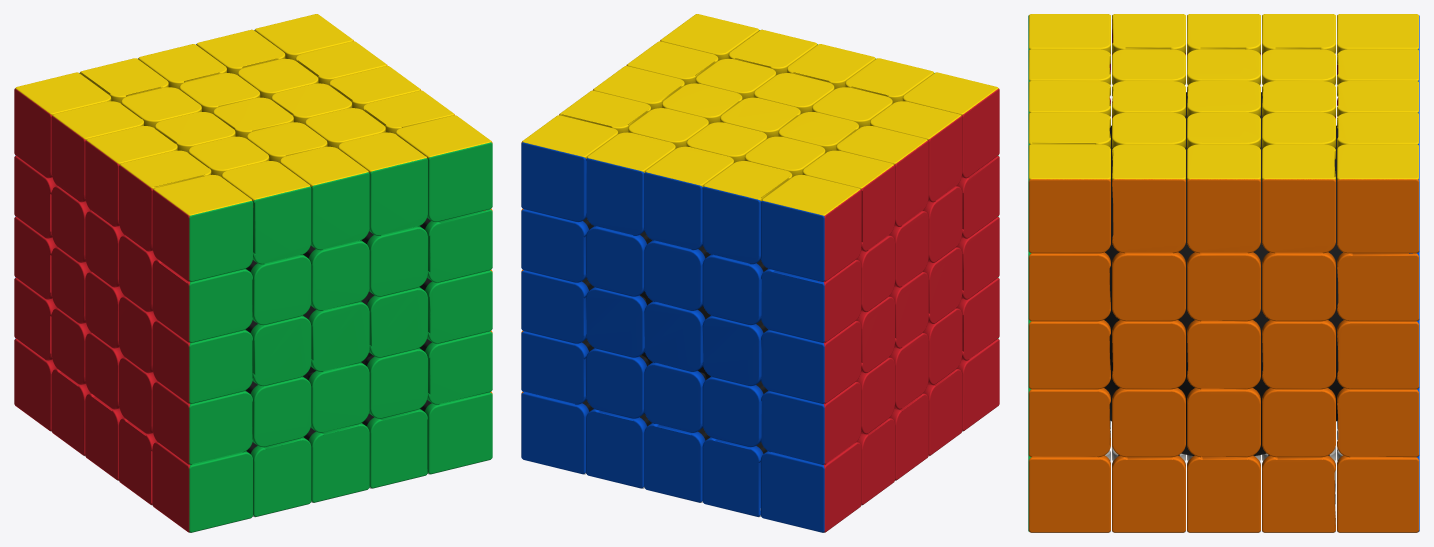
The picture shows the model from 3 angles, left to right: view 1: azimuth 30°, elevation 25°; view 2: azimuth 150°, elevation 25°; view 3: azimuth 270°, elevation 25°; orthographic projection. The views are drawn at different scales.
Visible parts, largest first — view 1: piece_-2,2,2, piece_-2,-2,2, piece_2,2,2, piece_-2,0,2, piece_-2,1,2, piece_-2,-1,2, piece_0,2,2, piece_-1,2,2, piece_1,2,2, piece_-2,2,-2, piece_2,-2,2, piece_-2,2,-1 (+49 smaller); view 2: piece_-2,2,-2, piece_-2,-2,-2, piece_2,2,-2, piece_-2,0,-2, piece_-2,1,-2, piece_-2,-1,-2, piece_1,2,-2, piece_0,2,-2, piece_-1,2,-2, piece_-2,2,2, piece_2,-2,-2, piece_-2,2,1 (+49 smaller); view 3: piece_2,2,-2, piece_2,2,2, piece_2,2,0, piece_2,2,-1, piece_2,2,1, piece_2,-2,2, piece_2,-2,-2, piece_2,1,2, piece_2,0,2, piece_2,0,-2, piece_2,1,-2, piece_2,-2,0 (+34 smaller).
Part boxes in pixels (left/top/right/bottom): piece_-2,2,2: left=152, top=174, right=252, bottom=281; piece_-2,-2,2: left=152, top=442, right=252, bottom=532; piece_2,2,2: left=395, top=115, right=492, bottom=222; piece_-2,0,2: left=152, top=320, right=252, bottom=403; piece_-2,1,2: left=152, top=259, right=252, bottom=342; piece_-2,-1,2: left=152, top=381, right=252, bottom=464; piece_0,2,2: left=280, top=146, right=369, bottom=250; piece_-1,2,2: left=221, top=161, right=311, bottom=264; piece_1,2,2: left=338, top=132, right=427, bottom=235; piece_-2,2,-2: left=14, top=72, right=111, bottom=178; piece_2,-2,2: left=420, top=391, right=492, bottom=474; piece_-2,2,-1: left=51, top=101, right=143, bottom=202; piece_-2,2,-2: left=761, top=174, right=861, bottom=281; piece_-2,-2,-2: left=761, top=442, right=861, bottom=532; piece_2,2,-2: left=521, top=115, right=618, bottom=222; piece_-2,0,-2: left=761, top=320, right=861, bottom=403; piece_-2,1,-2: left=761, top=259, right=861, bottom=342; piece_-2,-1,-2: left=761, top=381, right=861, bottom=464; piece_1,2,-2: left=586, top=132, right=675, bottom=235; piece_0,2,-2: left=644, top=146, right=733, bottom=250; piece_-1,2,-2: left=702, top=161, right=792, bottom=264; piece_-2,2,2: left=902, top=72, right=999, bottom=178; piece_2,-2,-2: left=521, top=391, right=593, bottom=474; piece_-2,2,1: left=870, top=101, right=962, bottom=202; piece_2,2,-2: left=1337, top=144, right=1419, bottom=253; piece_2,2,2: left=1028, top=144, right=1110, bottom=253; piece_2,2,0: left=1187, top=144, right=1260, bottom=253; piece_2,2,-1: left=1262, top=144, right=1335, bottom=253; piece_2,2,1: left=1112, top=144, right=1185, bottom=253; piece_2,-2,2: left=1028, top=455, right=1110, bottom=532; piece_2,-2,-2: left=1337, top=455, right=1419, bottom=532; piece_2,1,2: left=1028, top=252, right=1110, bottom=321; piece_2,0,2: left=1028, top=320, right=1110, bottom=389; piece_2,0,-2: left=1337, top=320, right=1419, bottom=389; piece_2,1,-2: left=1337, top=252, right=1419, bottom=321; piece_2,-2,0: left=1187, top=455, right=1260, bottom=532.
Size of the model in its own units: 2 by 2 by 2.
